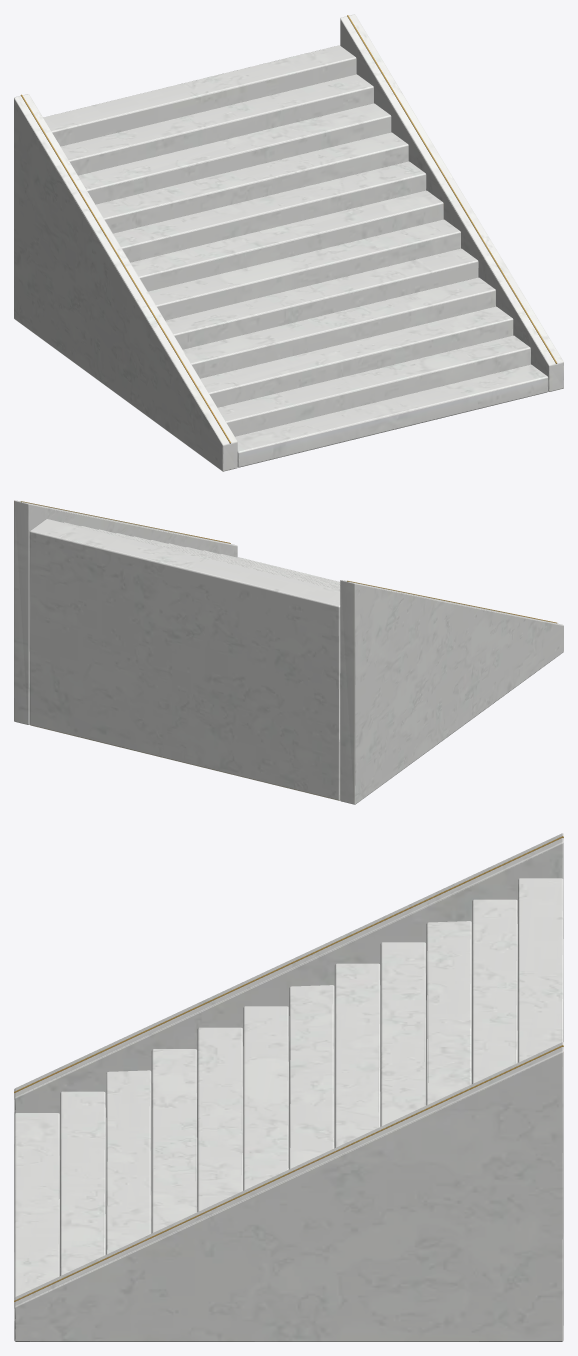
File: staircase.glb
3 views of the same model, one above another, from view 1: azimuth 30°, elevation 25°; view 2: azimuth 150°, elevation 25°; view 3: azimuth 270°, elevation 25° (orthographic). The views are drawn at different scales.
Parts seen in each view (by area): view 1: 09 Staircase; view 2: 09 Staircase; view 3: 09 Staircase.
Boxes of the visible parts, left/top/right/bottom form: 09 Staircase: left=14, top=14, right=563, bottom=471; 09 Staircase: left=14, top=500, right=563, bottom=804; 09 Staircase: left=14, top=833, right=563, bottom=1341.
Size of the model in its own units: 3.96 by 2.47 by 4.2.
Materials: 2 (2 with a texture image).
